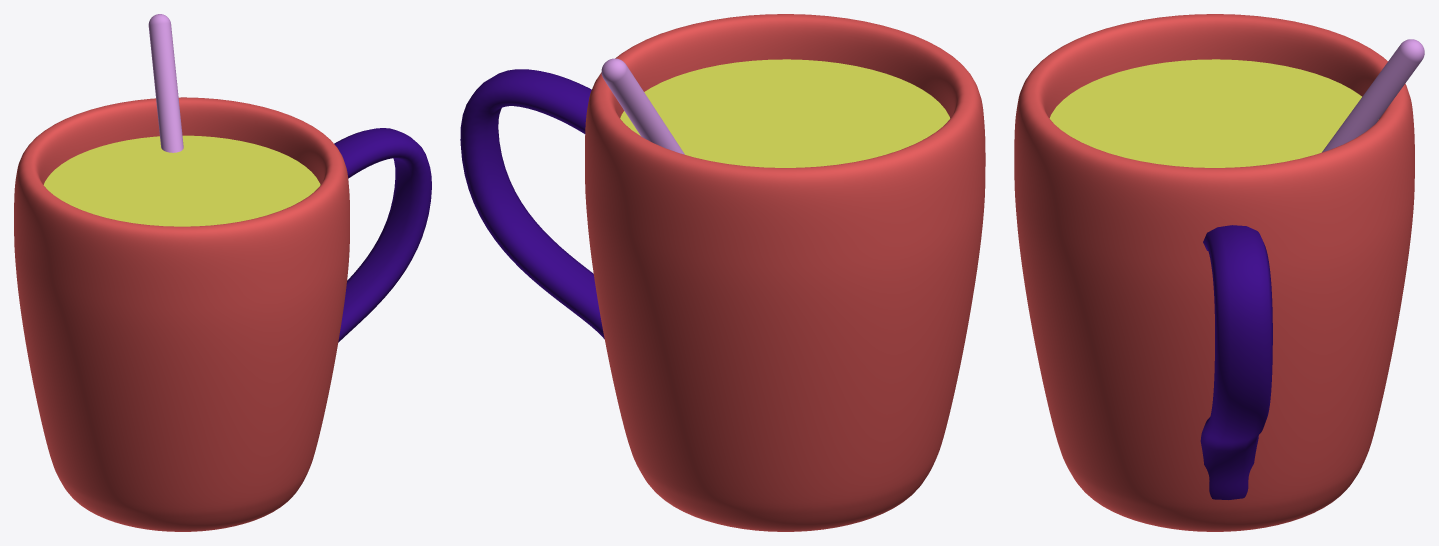
Rendered from cup-coffee.obj.
The picture shows the model from 3 angles, left to right: view 1: azimuth 30°, elevation 25°; view 2: azimuth 150°, elevation 25°; view 3: azimuth 270°, elevation 25°; orthographic projection. The views are drawn at different scales.
Visible parts, largest first — view 1: Line001, fluid, handle, stick; view 2: Line001, fluid, handle, stick; view 3: Line001, fluid, handle, stick.
Boxes of the visible parts, x1,y1,x2,y2 form: Line001: (14,97,349,531); fluid: (43,135,320,226); handle: (334,128,431,342); stick: (148,14,183,152); Line001: (585,14,985,531); fluid: (620,59,950,167); handle: (460,69,604,338); stick: (601,58,684,154); Line001: (1014,14,1414,531); fluid: (1049,59,1361,167); handle: (1200,225,1272,499); stick: (1322,39,1424,152).
Bounding box in the file's own units: 24.28 × 23.03 × 18.05.
